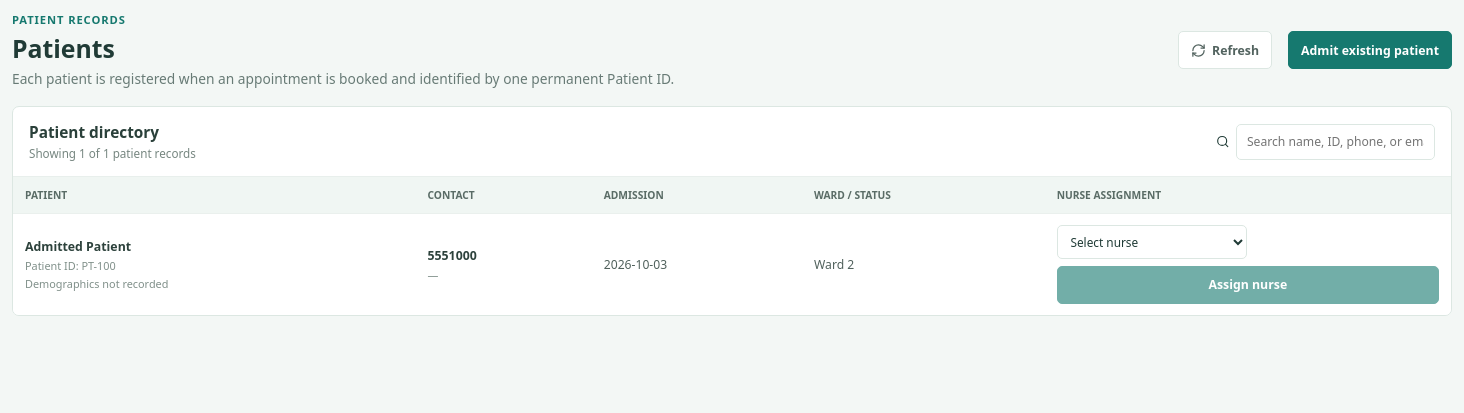
it: assigns and persists a selected nurse for an admitted patient
Select "Nurse One" in the dropdown named "Nurse for Admitted Patient" at (1152, 242), box [1057,225,1247,259]
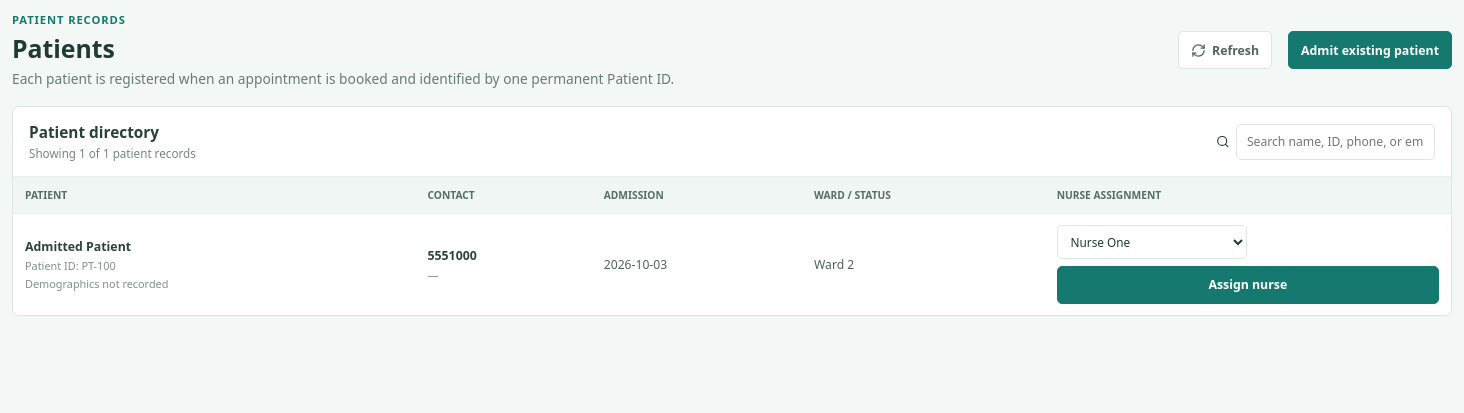
Click the button "Assign nurse" at (1248, 285), box [1057,266,1439,304]
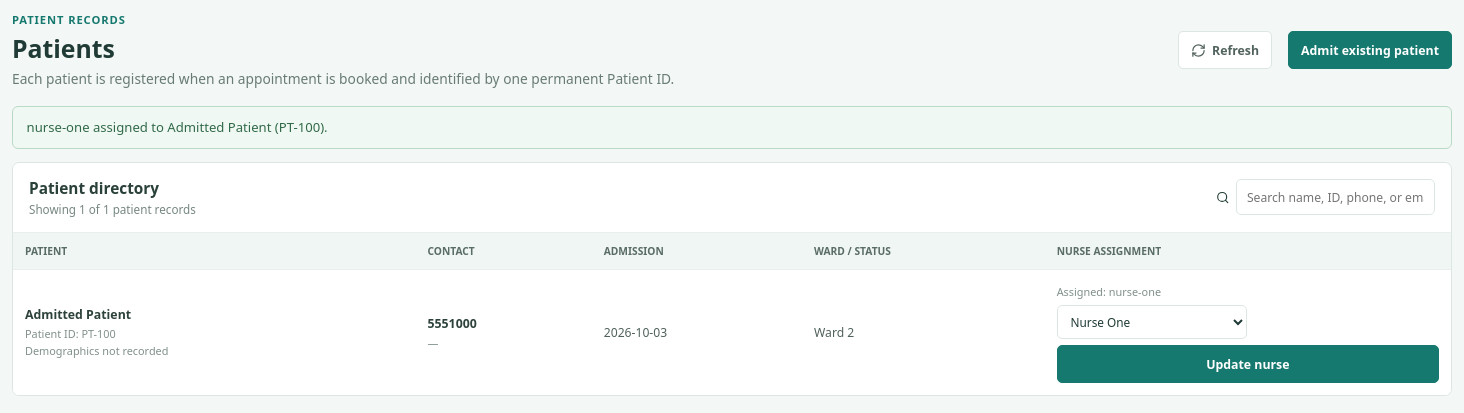
Expected: the message shows "nurse-one assigned to Admitted Patient (PT-100)", [27,118,328,136]
